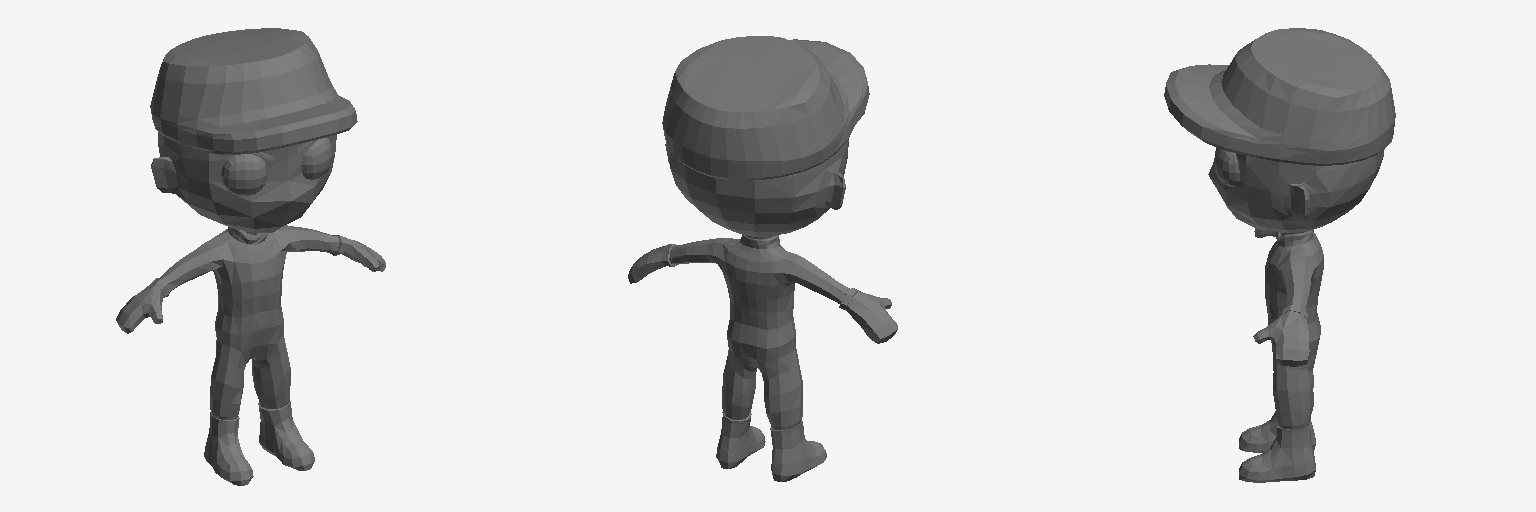
The model's file is Guardia_Exterior_Gorra_low.obj.
3 views of the same model, side by side, from view 1: azimuth 30°, elevation 25°; view 2: azimuth 150°, elevation 25°; view 3: azimuth 270°, elevation 25° (orthographic).
Visible parts, largest first — view 1: Guardia_Exterior_Gorra_low:Group40300 Guardia_Exterior_Gorra_low, Guardia_Exterior_Gorra_low:polySurface8 Guardia_Exterior_Gorra_l; view 2: Guardia_Exterior_Gorra_low:Group40300 Guardia_Exterior_Gorra_low; view 3: Guardia_Exterior_Gorra_low:Group40300 Guardia_Exterior_Gorra_low, Guardia_Exterior_Gorra_low:polySurface8 Guardia_Exterior_Gorra_l.
Boxes of the visible parts, x1,y1,x2,y2 form: Guardia_Exterior_Gorra_low:Group40300 Guardia_Exterior_Gorra_low: [116, 28, 385, 485]; Guardia_Exterior_Gorra_low:polySurface8 Guardia_Exterior_Gorra_l: [221, 137, 332, 195]; Guardia_Exterior_Gorra_low:Group40300 Guardia_Exterior_Gorra_low: [628, 36, 897, 481]; Guardia_Exterior_Gorra_low:Group40300 Guardia_Exterior_Gorra_low: [1164, 28, 1395, 482]; Guardia_Exterior_Gorra_low:polySurface8 Guardia_Exterior_Gorra_l: [1214, 148, 1239, 187].
Size of the model in its own units: 3.98 by 6 by 3.03.